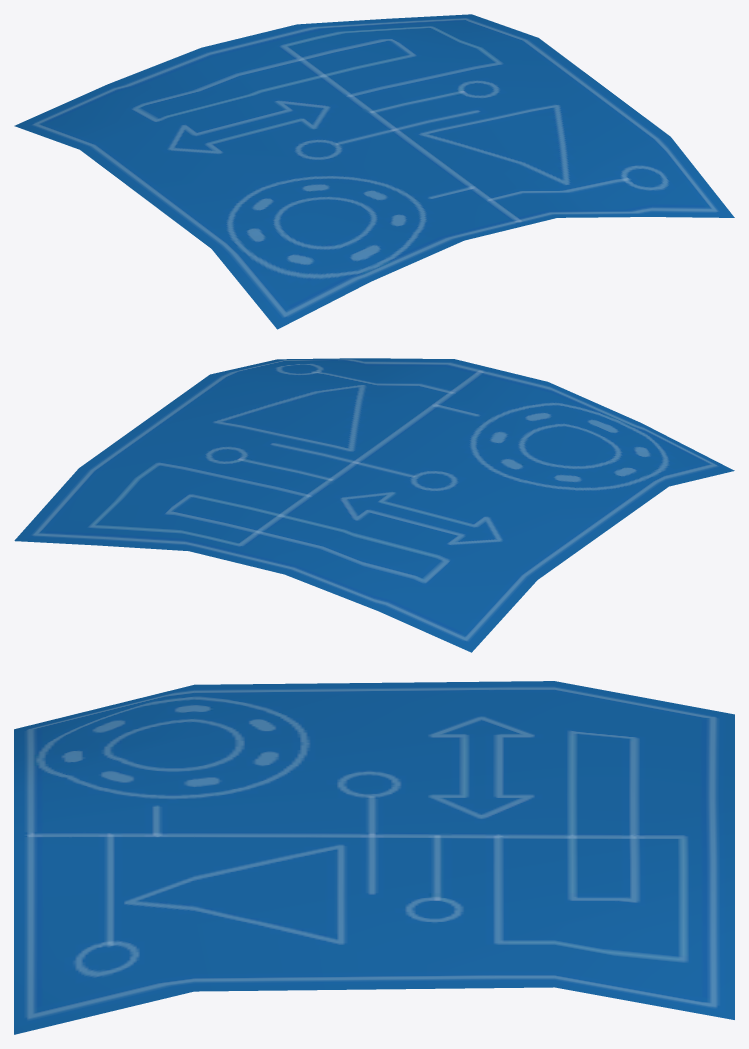
The model's file is Blueprint_Hand.fbx.
3 views of the same model, one above another, from view 1: azimuth 30°, elevation 25°; view 2: azimuth 150°, elevation 25°; view 3: azimuth 270°, elevation 25° (orthographic). The views are drawn at different scales.
Parts seen in each view (by area): view 1: Blueprint; view 2: Blueprint; view 3: Blueprint.
Part boxes in pixels (bbox=[...]): Blueprint: bbox=[14, 14, 734, 329]; Blueprint: bbox=[14, 358, 734, 652]; Blueprint: bbox=[14, 681, 734, 1034].
Size of the model in its own units: 1.13 by 0.1024 by 1.13.
1 material, 1 textured.
